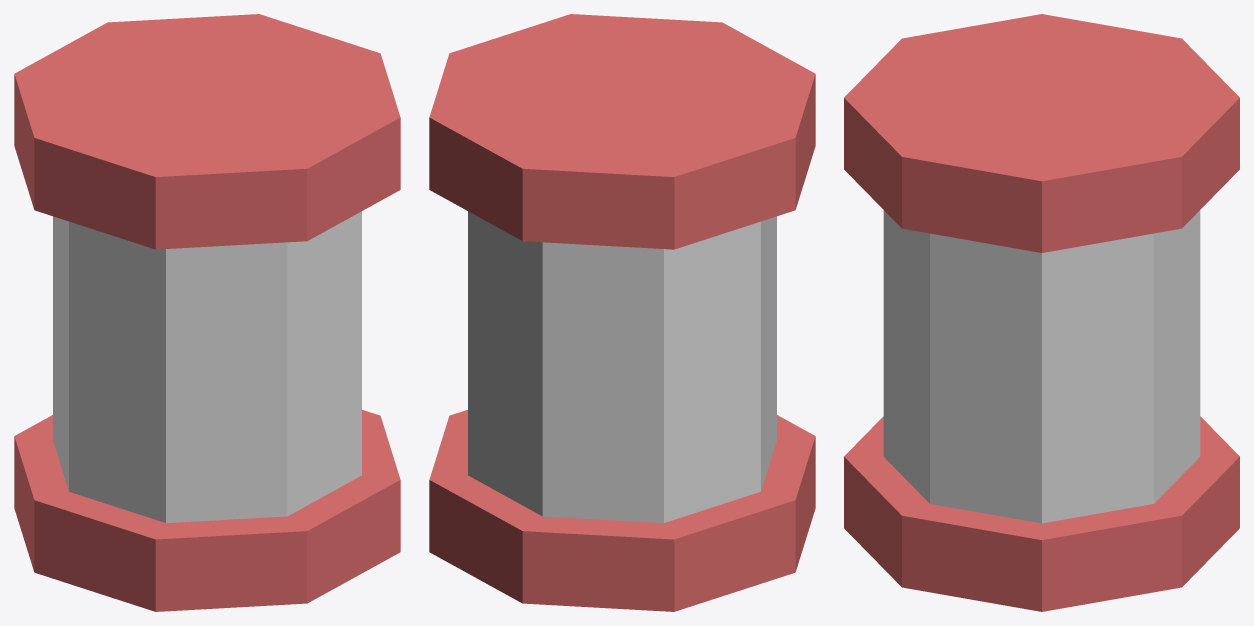
The model's file is Battery.fbx.
The picture shows the model from 3 angles, left to right: view 1: azimuth 30°, elevation 25°; view 2: azimuth 150°, elevation 25°; view 3: azimuth 270°, elevation 25°; orthographic projection.
Visible parts, largest first — view 1: pCylinder1, pCylinder2, pCylinder3; view 2: pCylinder1, pCylinder2, pCylinder3; view 3: pCylinder1, pCylinder2, pCylinder3.
Boxes of the visible parts, x1,y1,x2,y2 form: pCylinder1: [53, 211, 361, 523]; pCylinder2: [14, 14, 400, 249]; pCylinder3: [14, 409, 400, 611]; pCylinder1: [468, 211, 776, 523]; pCylinder2: [429, 14, 815, 249]; pCylinder3: [429, 409, 815, 611]; pCylinder1: [883, 210, 1200, 523]; pCylinder2: [844, 14, 1239, 252]; pCylinder3: [844, 416, 1239, 611].
Size of the model in its own units: 2 by 2.4 by 2.
